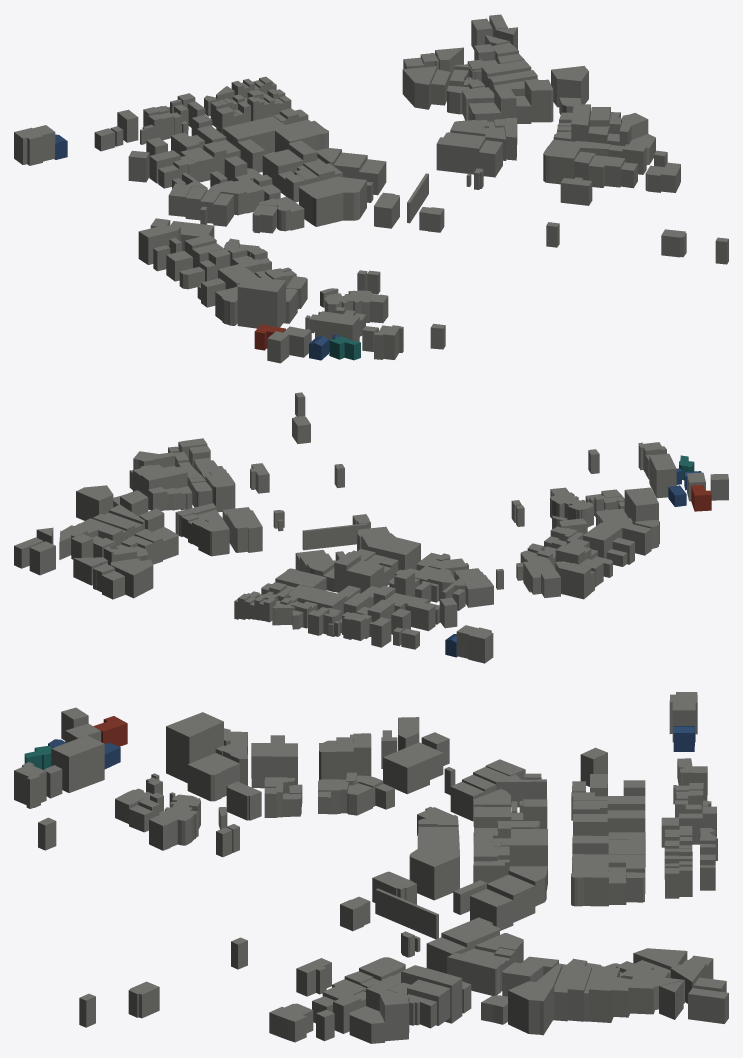
File: near-16-54721-29738.716d6125.glb
The picture shows the model from 3 angles, top to bottom: view 1: azimuth 30°, elevation 25°; view 2: azimuth 150°, elevation 25°; view 3: azimuth 270°, elevation 25°; orthographic projection. The views are drawn at different scales.
Bounding box in the file's own units: 604 × 67.15 × 609.
